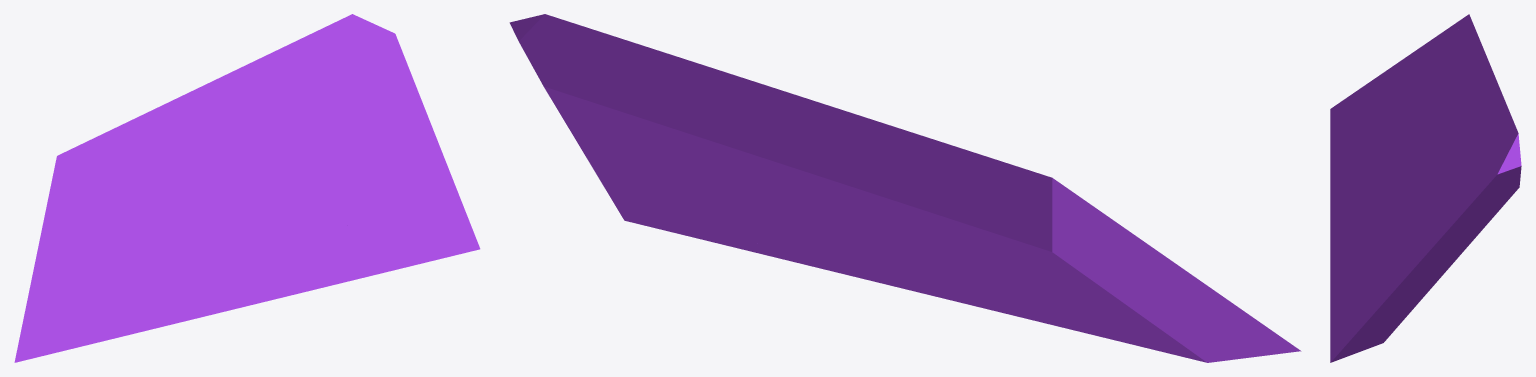
File: Window_128_2_chunks.fbx
3 renders of one model, left to right at view 1: azimuth 30°, elevation 25°; view 2: azimuth 150°, elevation 25°; view 3: azimuth 270°, elevation 25°, orthographic. The views are drawn at different scales.
Parts seen in each view (by area): view 1: Window_128_2_1, Window_128_2_2, Window_128_2_5, Window_128_2_6, Window_128_2_8, Window_128_2_4, Window_128_2_11, Window_128_2_0, Window_128_2_3, Window_128_2_12, Window_128_2_10; view 2: Window_128_2_1, Window_128_2_2, Window_128_2_5, Window_128_2_7, Window_128_2_3, Window_128_2_8, Window_128_2_4, Window_128_2_10, Window_128_2_9; view 3: Window_128_2_1, Window_128_2_2, Window_128_2_8, Window_128_2_5, Window_128_2_6, Window_128_2_4, Window_128_2_11, Window_128_2_0, Window_128_2_3, Window_128_2_12, Window_128_2_10.
Part boxes in pixels (x1=…): Window_128_2_1: x1=212, y1=14, x2=455, y2=187; Window_128_2_2: x1=14, y1=162, x2=152, y2=362; Window_128_2_5: x1=55, y1=81, x2=236, y2=214; Window_128_2_6: x1=173, y1=179, x2=333, y2=324; Window_128_2_8: x1=311, y1=173, x2=480, y2=256; Window_128_2_4: x1=134, y1=197, x2=236, y2=333; Window_128_2_11: x1=247, y1=242, x2=356, y2=305; Window_128_2_0: x1=237, y1=139, x2=324, y2=208; Window_128_2_3: x1=195, y1=124, x2=244, y2=209; Window_128_2_12: x1=313, y1=222, x2=410, y2=259; Window_128_2_10: x1=351, y1=245, x2=449, y2=279; Window_128_2_1: x1=509, y1=14, x2=784, y2=194; Window_128_2_2: x1=944, y1=183, x2=1301, y2=362; Window_128_2_5: x1=779, y1=91, x2=1059, y2=233; Window_128_2_7: x1=719, y1=190, x2=996, y2=311; Window_128_2_3: x1=775, y1=131, x2=960, y2=274; Window_128_2_8: x1=601, y1=182, x2=740, y2=233; Window_128_2_4: x1=930, y1=271, x2=1021, y2=317; Window_128_2_10: x1=677, y1=231, x2=788, y2=260; Window_128_2_9: x1=763, y1=237, x2=855, y2=276; Window_128_2_1: x1=1378, y1=77, x2=1521, y2=308; Window_128_2_2: x1=1330, y1=17, x2=1464, y2=174; Window_128_2_8: x1=1330, y1=204, x2=1421, y2=362; Window_128_2_5: x1=1411, y1=14, x2=1494, y2=133; Window_128_2_6: x1=1330, y1=170, x2=1408, y2=245; Window_128_2_4: x1=1330, y1=116, x2=1416, y2=194; Window_128_2_11: x1=1330, y1=235, x2=1363, y2=294; Window_128_2_0: x1=1401, y1=134, x2=1448, y2=209; Window_128_2_3: x1=1401, y1=119, x2=1460, y2=169; Window_128_2_12: x1=1345, y1=243, x2=1374, y2=311; Window_128_2_10: x1=1330, y1=280, x2=1345, y2=346.
Bounding box in the file's own units: 1143 × 432 × 363.
